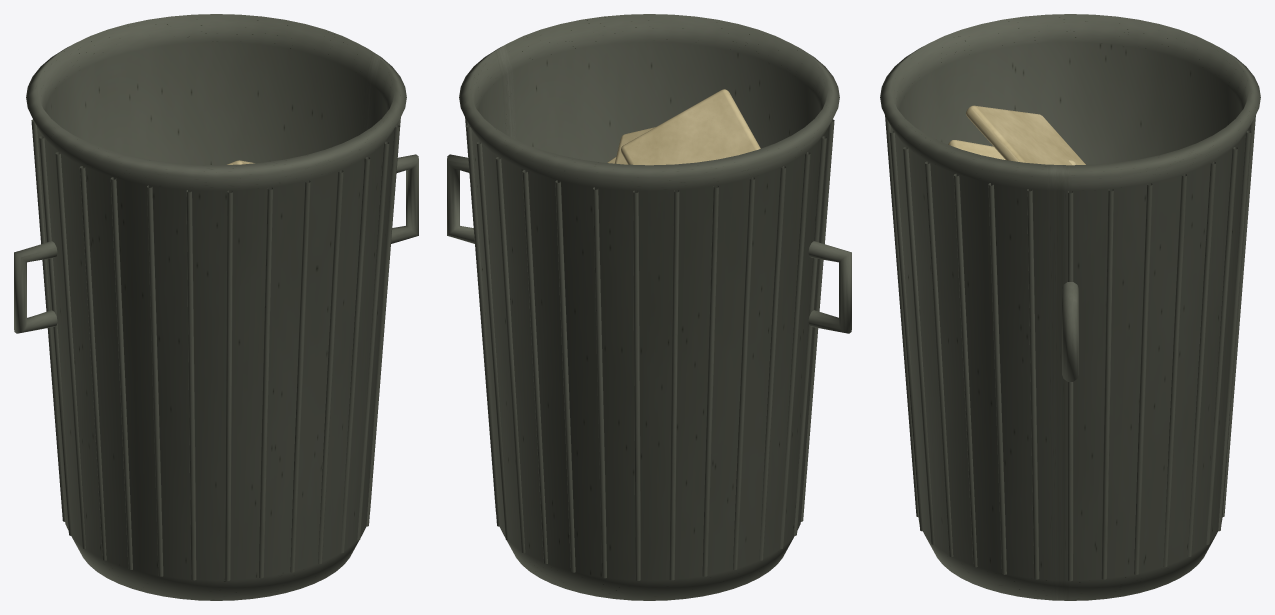
The model's file is trash_can.glb.
3 views of the same model, side by side, from view 1: azimuth 30°, elevation 25°; view 2: azimuth 150°, elevation 25°; view 3: azimuth 270°, elevation 25° (orthographic).
Parts seen in each view (by area): view 1: Open corrugated rubbish bin, Pressed steel rib.019, Pressed steel rib.018, Pressed steel rib.017, Pressed steel rib.016, Pressed steel rib.021, Pressed steel rib.020, Pressed steel rib.022, Pressed steel rib.015, Pressed steel rib.023, Pressed steel rib.014, Bin side handle (+5 smaller); view 2: Open corrugated rubbish bin, Discarded crumpled mail.004, Pressed steel rib.009, Pressed steel rib.010, Pressed steel rib.011, Pressed steel rib.012, Pressed steel rib.007, Pressed steel rib.008, Pressed steel rib.006, Pressed steel rib.013, Pressed steel rib.005, Pressed steel rib.014 (+6 smaller); view 3: Open corrugated rubbish bin, Discarded crumpled mail.004, Pressed steel rib.001, Pressed steel rib.027, Pressed steel rib.002, Pressed steel rib.026, Pressed steel rib.003, Pressed steel rib.025, Pressed steel rib.004, Pressed steel rib.024, Pressed steel rib.005, Pressed steel rib.023 (+7 smaller).
Part boxes in pixels (bbox=[...]): Open corrugated rubbish bin: bbox=[26, 14, 406, 600]; Pressed steel rib.019: bbox=[225, 190, 232, 580]; Pressed steel rib.018: bbox=[186, 190, 196, 580]; Pressed steel rib.017: bbox=[147, 185, 163, 576]; Pressed steel rib.016: bbox=[110, 177, 132, 569]; Pressed steel rib.021: bbox=[290, 180, 310, 572]; Pressed steel rib.020: bbox=[259, 187, 272, 578]; Pressed steel rib.022: bbox=[318, 170, 343, 563]; Pressed steel rib.015: bbox=[79, 166, 106, 560]; Pressed steel rib.023: bbox=[340, 157, 370, 553]; Pressed steel rib.014: bbox=[55, 152, 85, 548]; Bin side handle: bbox=[14, 241, 57, 333]; Open corrugated rubbish bin: bbox=[459, 14, 839, 600]; Discarded crumpled mail.004: bbox=[621, 89, 760, 165]; Pressed steel rib.009: bbox=[633, 190, 640, 580]; Pressed steel rib.010: bbox=[669, 190, 679, 580]; Pressed steel rib.011: bbox=[702, 185, 718, 576]; Pressed steel rib.012: bbox=[733, 177, 755, 569]; Pressed steel rib.007: bbox=[555, 180, 575, 572]; Pressed steel rib.008: bbox=[593, 187, 606, 578]; Pressed steel rib.006: bbox=[522, 170, 547, 563]; Pressed steel rib.013: bbox=[759, 166, 786, 560]; Pressed steel rib.005: bbox=[495, 157, 525, 553]; Pressed steel rib.014: bbox=[780, 152, 810, 548]; Open corrugated rubbish bin: bbox=[880, 14, 1260, 600]; Discarded crumpled mail.004: bbox=[966, 105, 1085, 165]; Pressed steel rib.001: bbox=[1101, 189, 1113, 579]; Pressed steel rib.027: bbox=[1027, 189, 1039, 579]; Pressed steel rib.002: bbox=[1134, 183, 1152, 574]; Pressed steel rib.026: bbox=[988, 183, 1006, 574]; Pressed steel rib.003: bbox=[1163, 173, 1187, 567]; Pressed steel rib.025: bbox=[953, 173, 977, 567]; Pressed steel rib.004: bbox=[1187, 161, 1215, 556]; Pressed steel rib.024: bbox=[925, 161, 953, 556]; Pressed steel rib.005: bbox=[1206, 147, 1237, 544]; Pressed steel rib.023: bbox=[903, 147, 934, 544].
Size of the model in its own units: 0.4873 by 0.525 by 0.4.
Materials: 2 (2 with a texture image).
